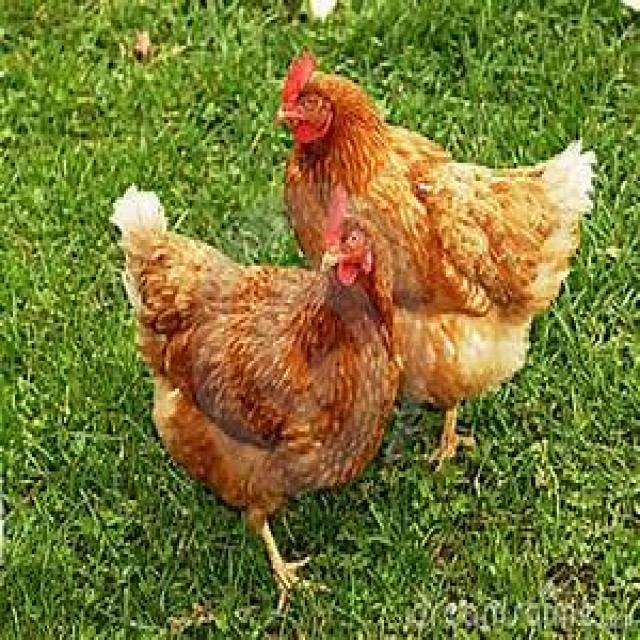hen: (276, 52, 595, 461), (111, 189, 399, 590)
